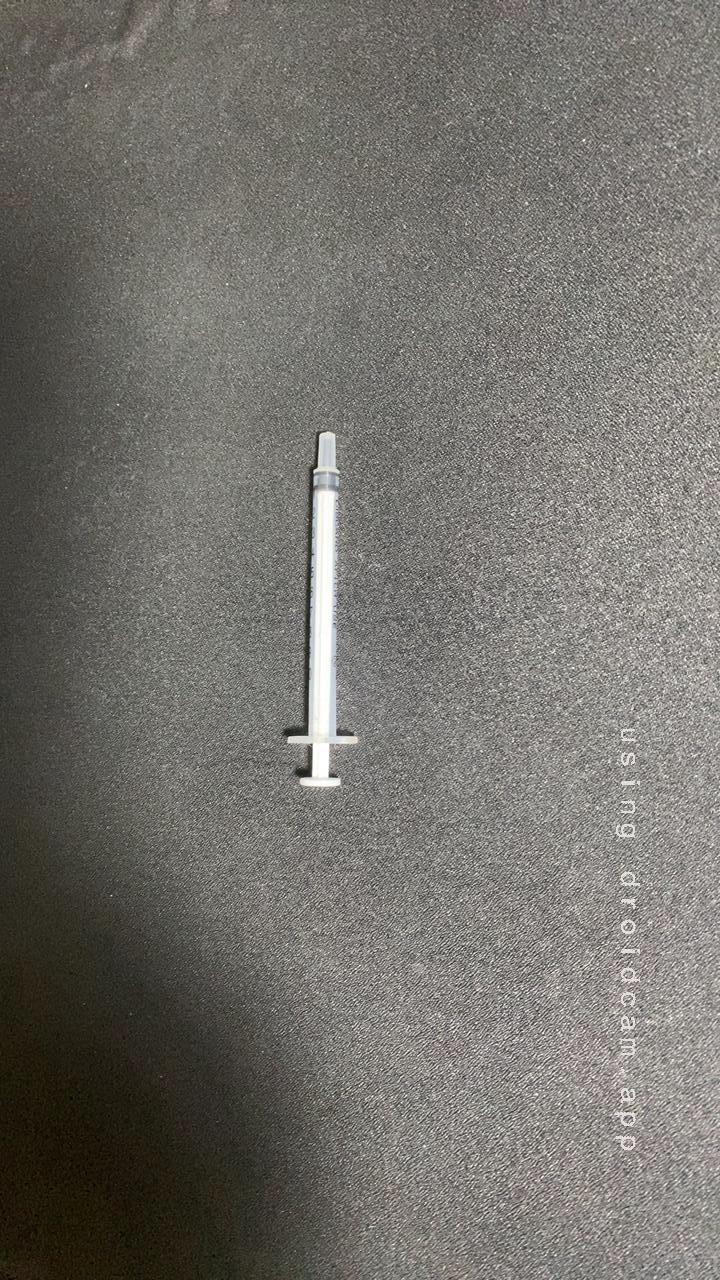syringe: (249, 433, 378, 798)
